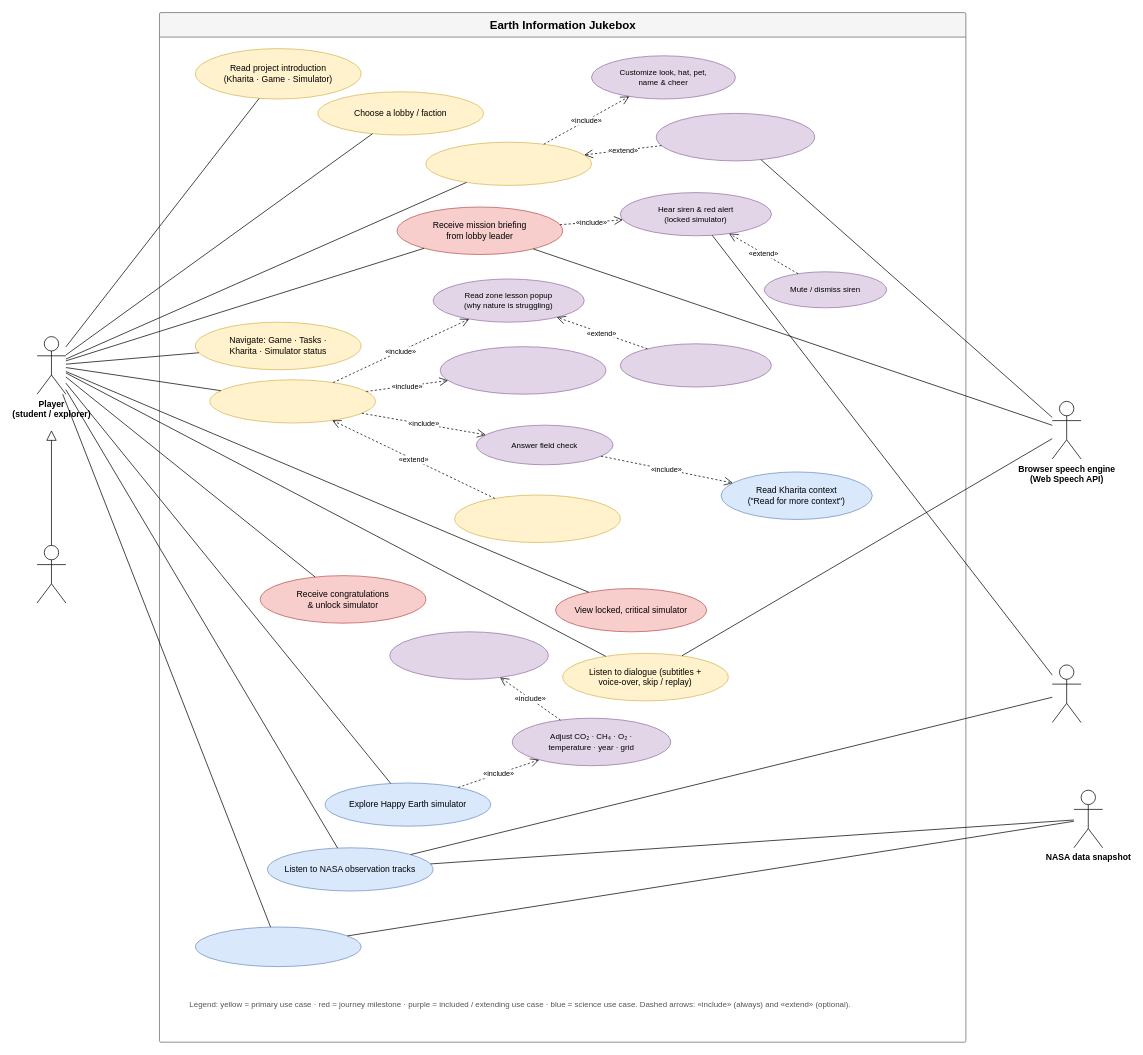
This 1143x1055 diagram has some shape labels left out. The shapes that lost their labels are listed below. From the top down, each one's box as (x1, y1, x2, y2) in pixels, then its label:
(656, 113, 815, 161): Customize voice (voice, pitch, speed) + live preview
(425, 141, 591, 185): Personalize buddy
(440, 346, 606, 394): Solve zone puzzle (grid · bee · roots · sorting · pH lab)
(620, 343, 771, 387): Tap bees / flowers in the meadow
(209, 379, 375, 423): Complete a zone mission
(454, 494, 620, 543): Restore zone & heal Earth (shared game ↔ simulator state)
(36, 545, 66, 603): Screen-reader user
(389, 631, 548, 679): Read cause & effect (immediate · long-term · why)
(1052, 664, 1081, 723): Web Audio API
(195, 926, 361, 967): Browse Kharita field guide
